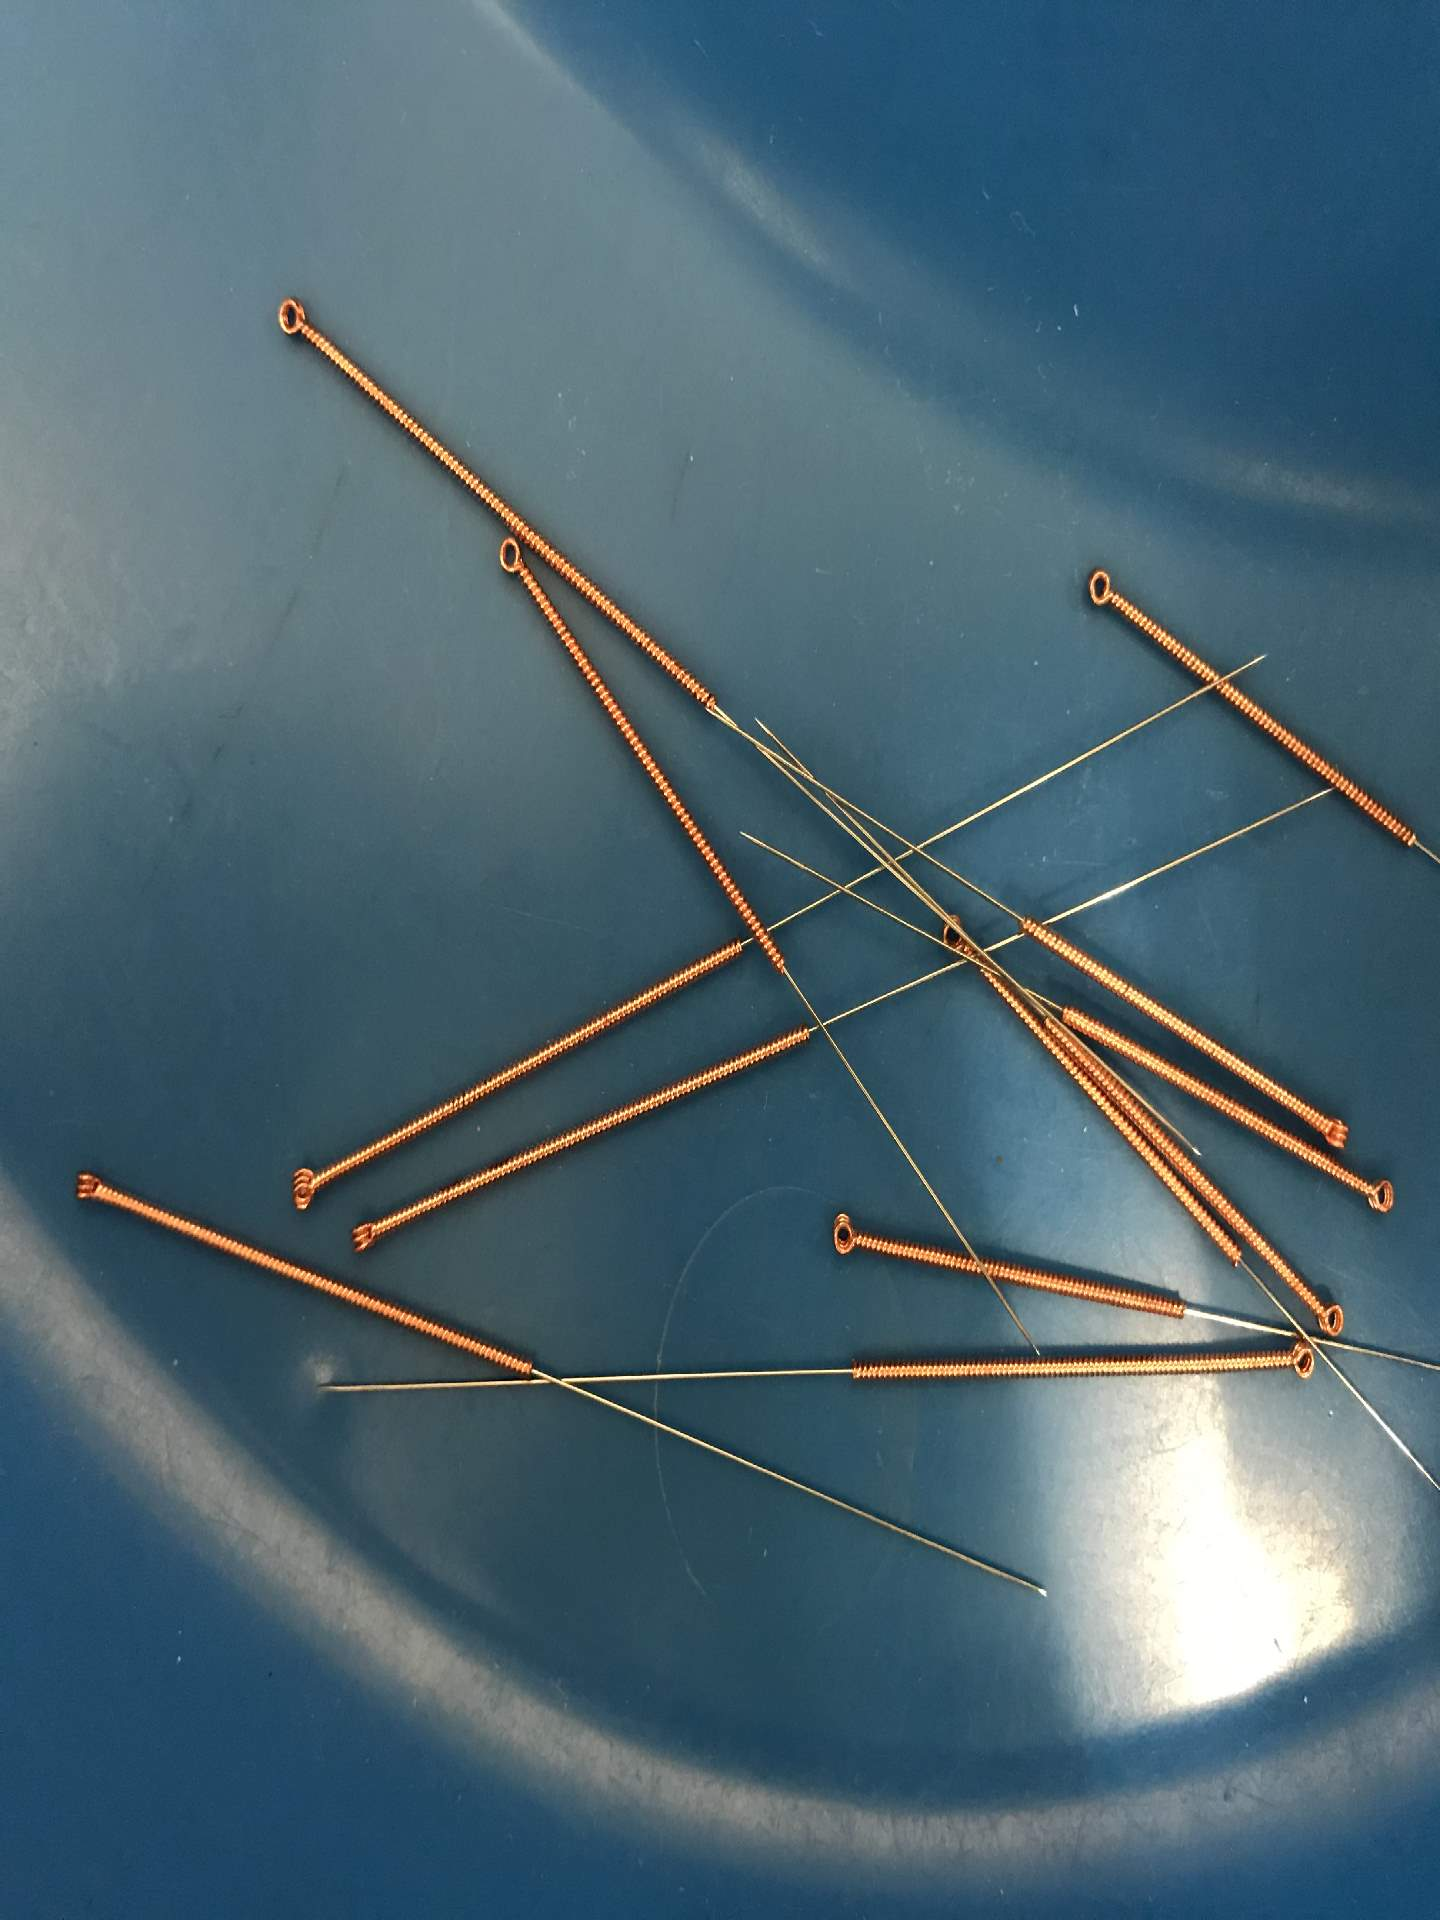needle: (815, 1203, 870, 1274), (263, 287, 319, 352), (1074, 553, 1130, 618), (278, 1157, 328, 1219), (1304, 1287, 1352, 1344), (64, 1161, 112, 1215), (1360, 1167, 1405, 1223), (1275, 1333, 1321, 1388), (343, 1209, 389, 1261), (489, 531, 529, 587), (930, 910, 976, 960), (1314, 1104, 1357, 1157)
